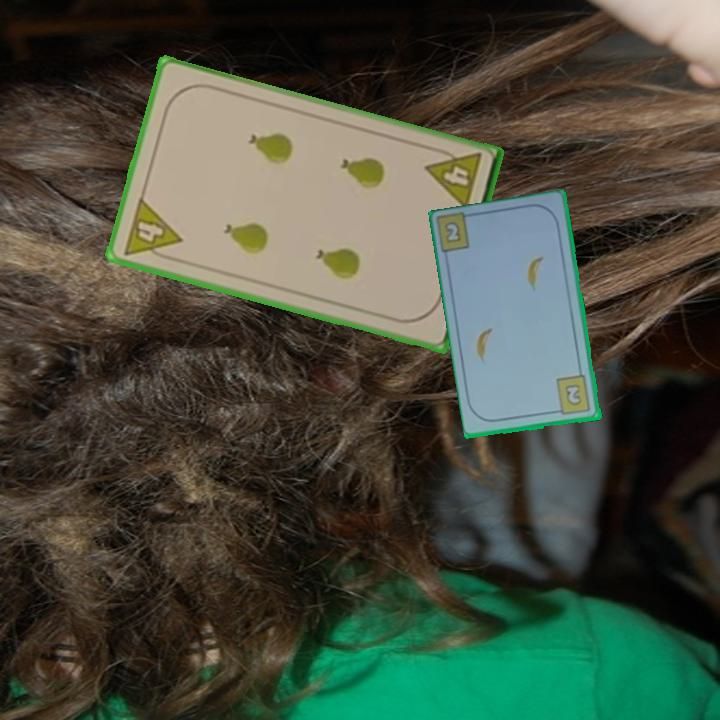2b: (552, 372, 594, 418), (441, 218, 464, 246)
4p: (119, 194, 185, 265), (422, 143, 485, 214)
